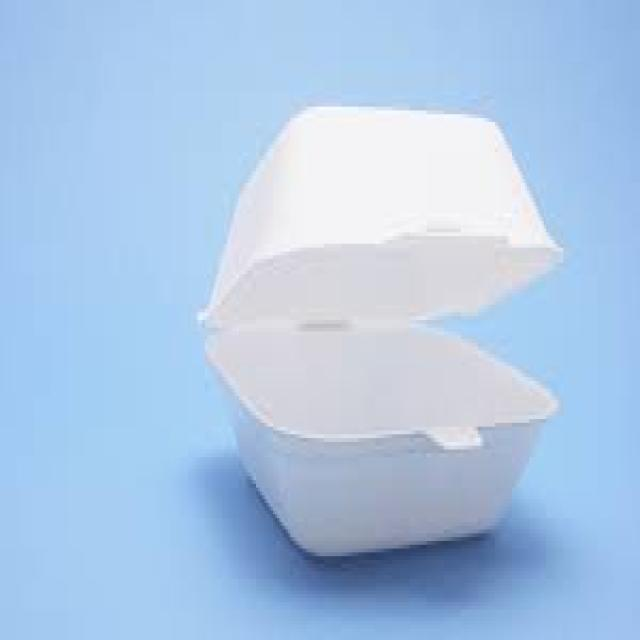styrofoam: (204, 109, 561, 554)
